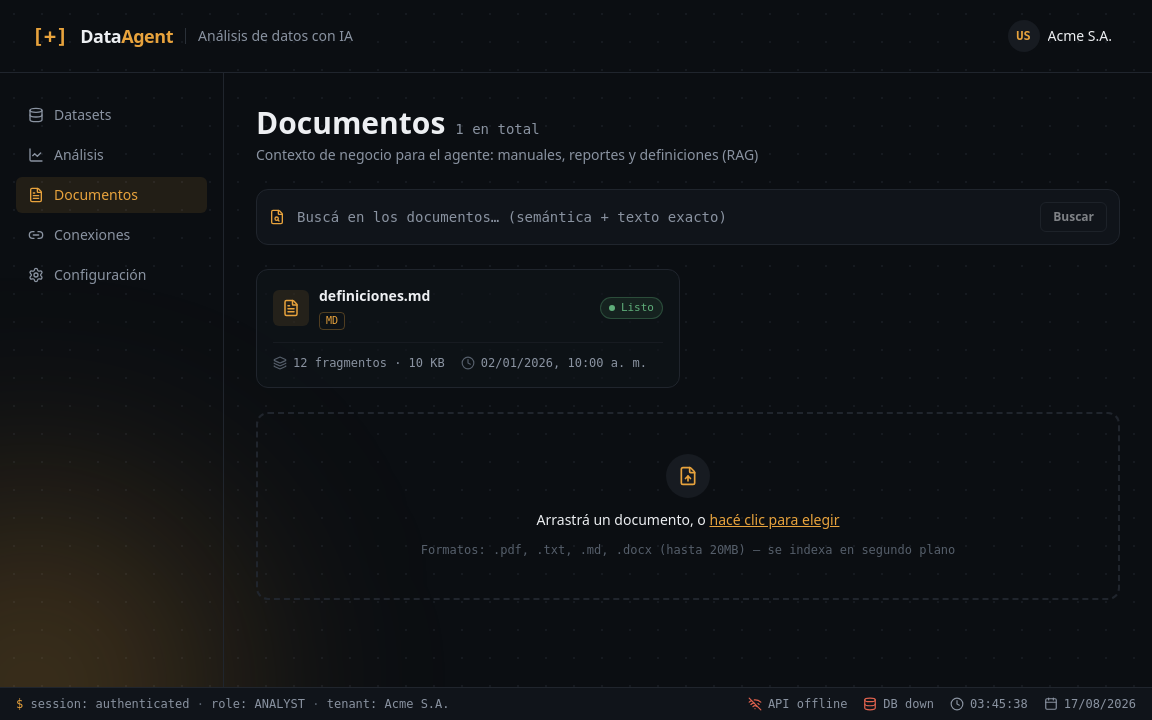
it: DocumentsPage › searches documents and shows the matching fragments
The width and height of the screenshot is (1152, 720).
Step 1. Type "ventas trimestrales" into the search field named "Buscar en los documentos" → (663, 217), box [297,207,1028,227]
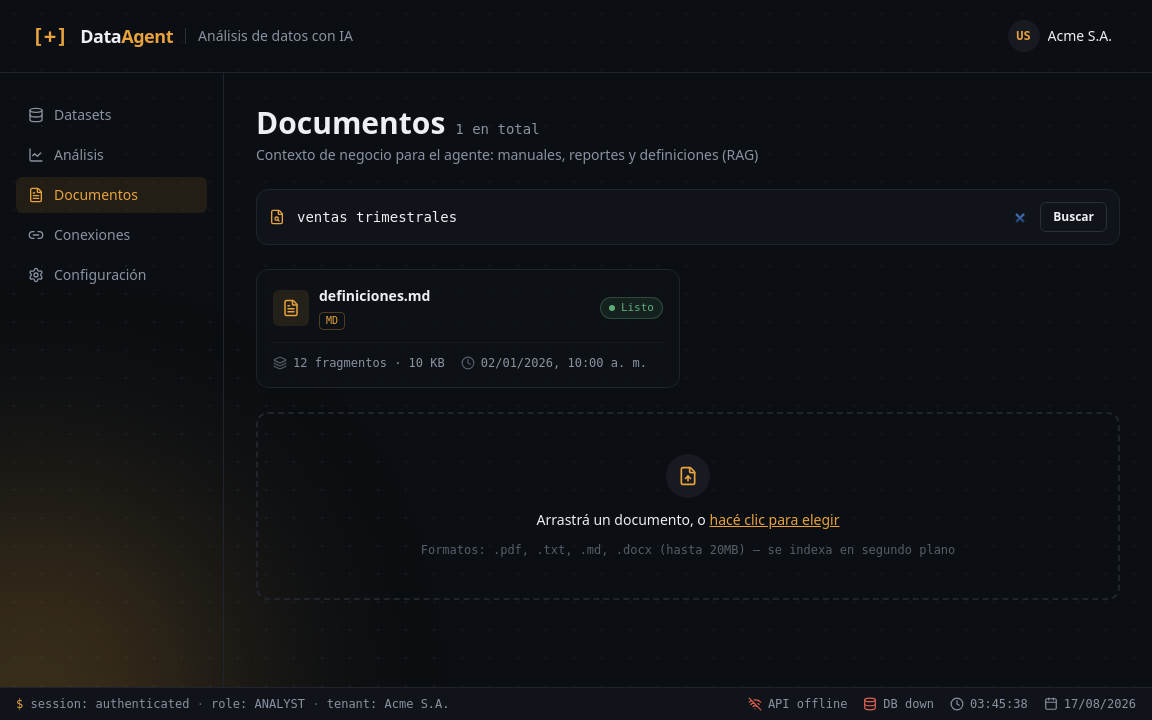
Step 2. Click the button "Buscar" → click(1074, 217), box [1040,202,1107,232]
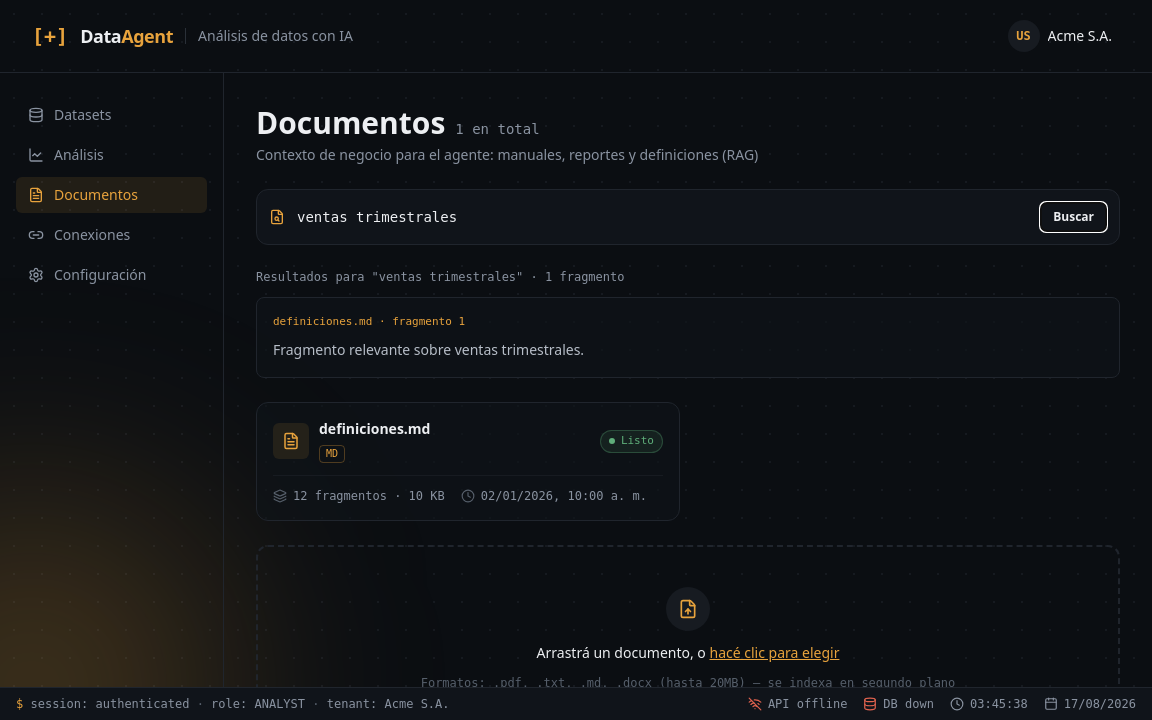
Expected: the text "Fragmento relevante sobre ventas trimestrales." is shown, [273,340,584,358]
